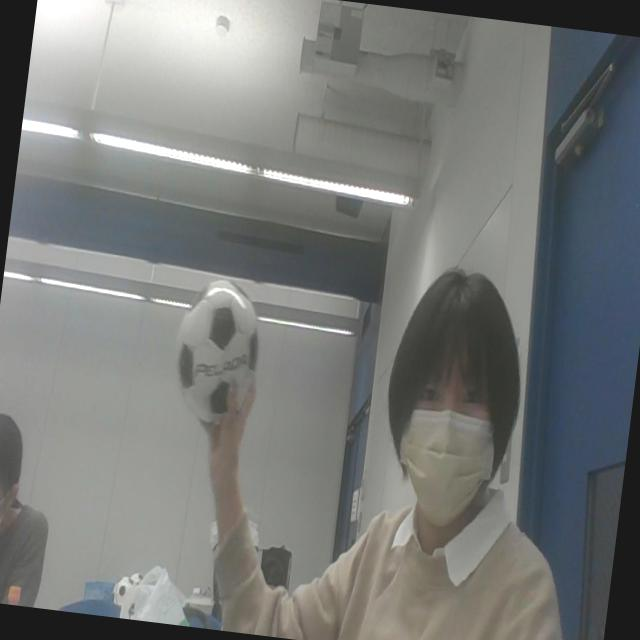Soccer Ball: (167, 275, 267, 430)
